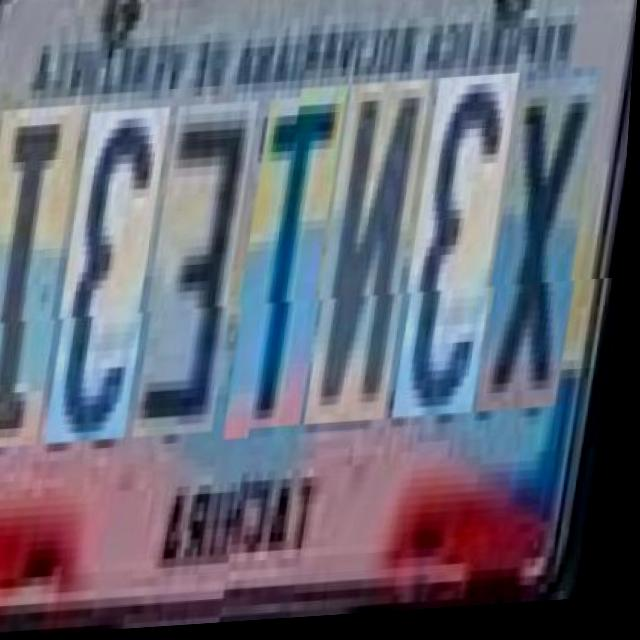3: (401, 89, 524, 433), (55, 108, 175, 444)
e: (143, 103, 263, 439)
i: (0, 104, 90, 448)
n: (313, 93, 436, 438)
t: (234, 98, 352, 442)
x: (485, 83, 608, 428)
